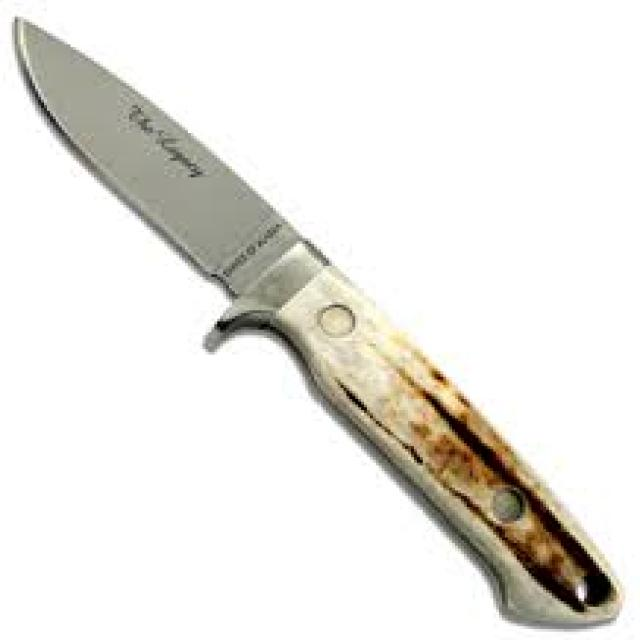knives: (6, 11, 625, 635)
